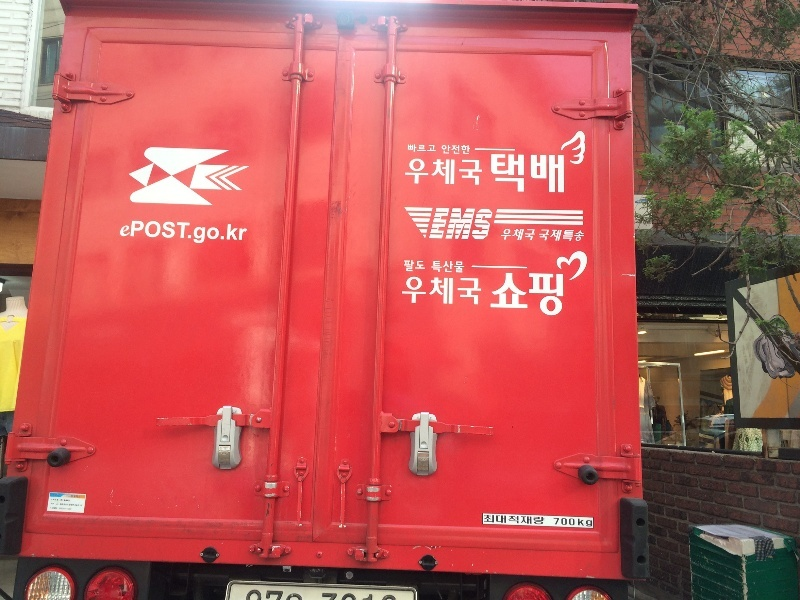text: (497, 272, 512, 317), (513, 272, 528, 317), (529, 272, 544, 317), (545, 272, 560, 317), (497, 154, 512, 194), (513, 154, 528, 194), (529, 154, 544, 194), (545, 154, 560, 194), (449, 207, 464, 242), (465, 207, 480, 242), (481, 207, 494, 242), (417, 276, 432, 306), (433, 276, 448, 306), (449, 276, 464, 306), (465, 276, 480, 306), (129, 219, 144, 248), (145, 219, 160, 248), (161, 219, 176, 248), (177, 219, 192, 248), (193, 219, 208, 248), (209, 219, 224, 248), (225, 219, 240, 248), (436, 207, 448, 242), (402, 276, 416, 306), (417, 159, 432, 185), (433, 159, 448, 185), (449, 159, 464, 185), (465, 159, 480, 185), (241, 219, 251, 248), (490, 272, 496, 317), (407, 159, 416, 185), (449, 261, 465, 275), (433, 261, 448, 275), (121, 219, 128, 248), (491, 154, 496, 194), (513, 228, 528, 241), (545, 229, 560, 242), (561, 229, 576, 242), (65, 498, 80, 511), (402, 260, 416, 273), (561, 272, 565, 317), (529, 515, 545, 526), (577, 517, 593, 528), (497, 515, 512, 526), (513, 515, 528, 526), (561, 517, 576, 528), (257, 589, 272, 600), (273, 589, 288, 600), (289, 589, 304, 600), (305, 589, 320, 600), (321, 589, 336, 600), (337, 589, 352, 600), (353, 589, 368, 600), (369, 589, 384, 600), (561, 154, 565, 194), (52, 498, 64, 511), (449, 145, 464, 155), (385, 589, 398, 600), (484, 515, 496, 526), (417, 260, 427, 273), (246, 589, 256, 600), (417, 145, 432, 152), (504, 228, 512, 241), (529, 228, 537, 241), (577, 229, 585, 242), (554, 517, 560, 528), (442, 145, 448, 155), (465, 145, 471, 155), (408, 145, 416, 152), (481, 159, 483, 185), (540, 229, 544, 242), (481, 276, 482, 306), (433, 145, 437, 152), (81, 498, 83, 511), (67, 495, 80, 497), (431, 261, 432, 275)
